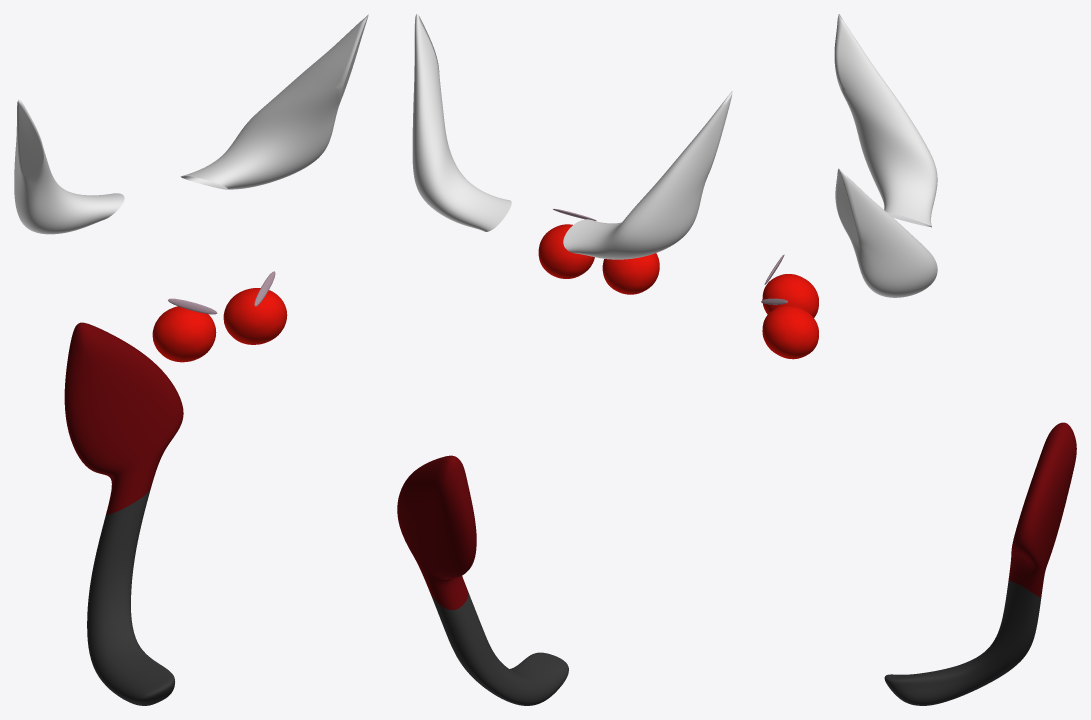
Rendered from DevilProps.fbx.
The picture shows the model from 3 angles, left to right: view 1: azimuth 30°, elevation 25°; view 2: azimuth 150°, elevation 25°; view 3: azimuth 270°, elevation 25°; orthographic projection. The views are drawn at different scales.
Parts seen in each view (by area): view 1: Cube.005, Cube.001, Cube.002; view 2: Cube.001, Cube.005, Cube.002; view 3: Cube.001, Cube.005, Cube.002.
Boxes of the visible parts, x1=… form: Cube.005: x1=64, y1=322, x2=183, y2=705; Cube.001: x1=14, y1=14, x2=368, y2=234; Cube.002: x1=152, y1=288, x2=287, y2=362; Cube.001: x1=412, y1=14, x2=732, y2=259; Cube.005: x1=397, y1=455, x2=568, y2=705; Cube.002: x1=538, y1=224, x2=659, y2=294; Cube.001: x1=834, y1=14, x2=937, y2=297; Cube.005: x1=884, y1=422, x2=1076, y2=705; Cube.002: x1=762, y1=274, x2=818, y2=359.
Bounding box in the file's own units: 275 × 507 × 236.
